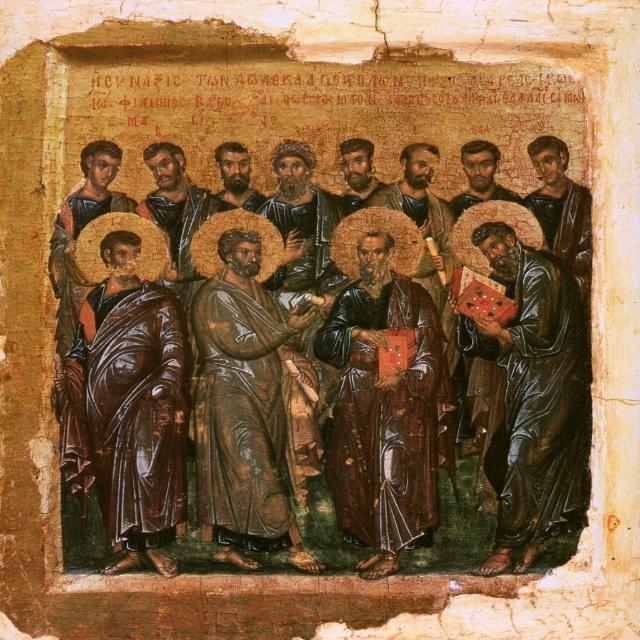apostle_face: (472, 226, 531, 274), (527, 134, 572, 193), (141, 143, 194, 192), (212, 142, 256, 197), (460, 141, 506, 191), (400, 143, 439, 194), (338, 139, 376, 191), (101, 232, 143, 279), (79, 139, 119, 188), (221, 231, 262, 276), (358, 232, 392, 286)
aura: (329, 206, 425, 286), (74, 210, 171, 288), (452, 199, 543, 282), (191, 206, 284, 286)
book: (452, 264, 519, 331), (376, 325, 419, 385)
christ_face: (267, 141, 320, 202)
christ_hand: (279, 224, 309, 272)
saint: (453, 201, 591, 576), (190, 211, 322, 575), (326, 208, 455, 580), (77, 212, 185, 577), (521, 135, 593, 284), (380, 131, 458, 236), (51, 133, 139, 226), (138, 136, 202, 250), (449, 133, 524, 210), (198, 135, 264, 210), (326, 129, 386, 196)
scroll: (281, 356, 326, 411), (419, 231, 454, 292), (300, 291, 338, 310)
